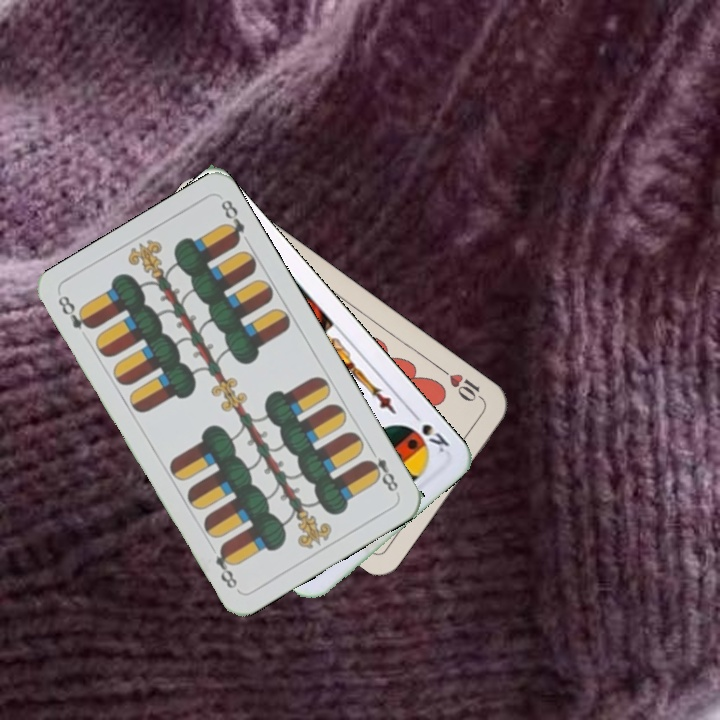E8: (361, 443, 401, 495), (54, 291, 96, 332)
H10: (436, 363, 487, 405)
SK: (407, 407, 452, 456)
